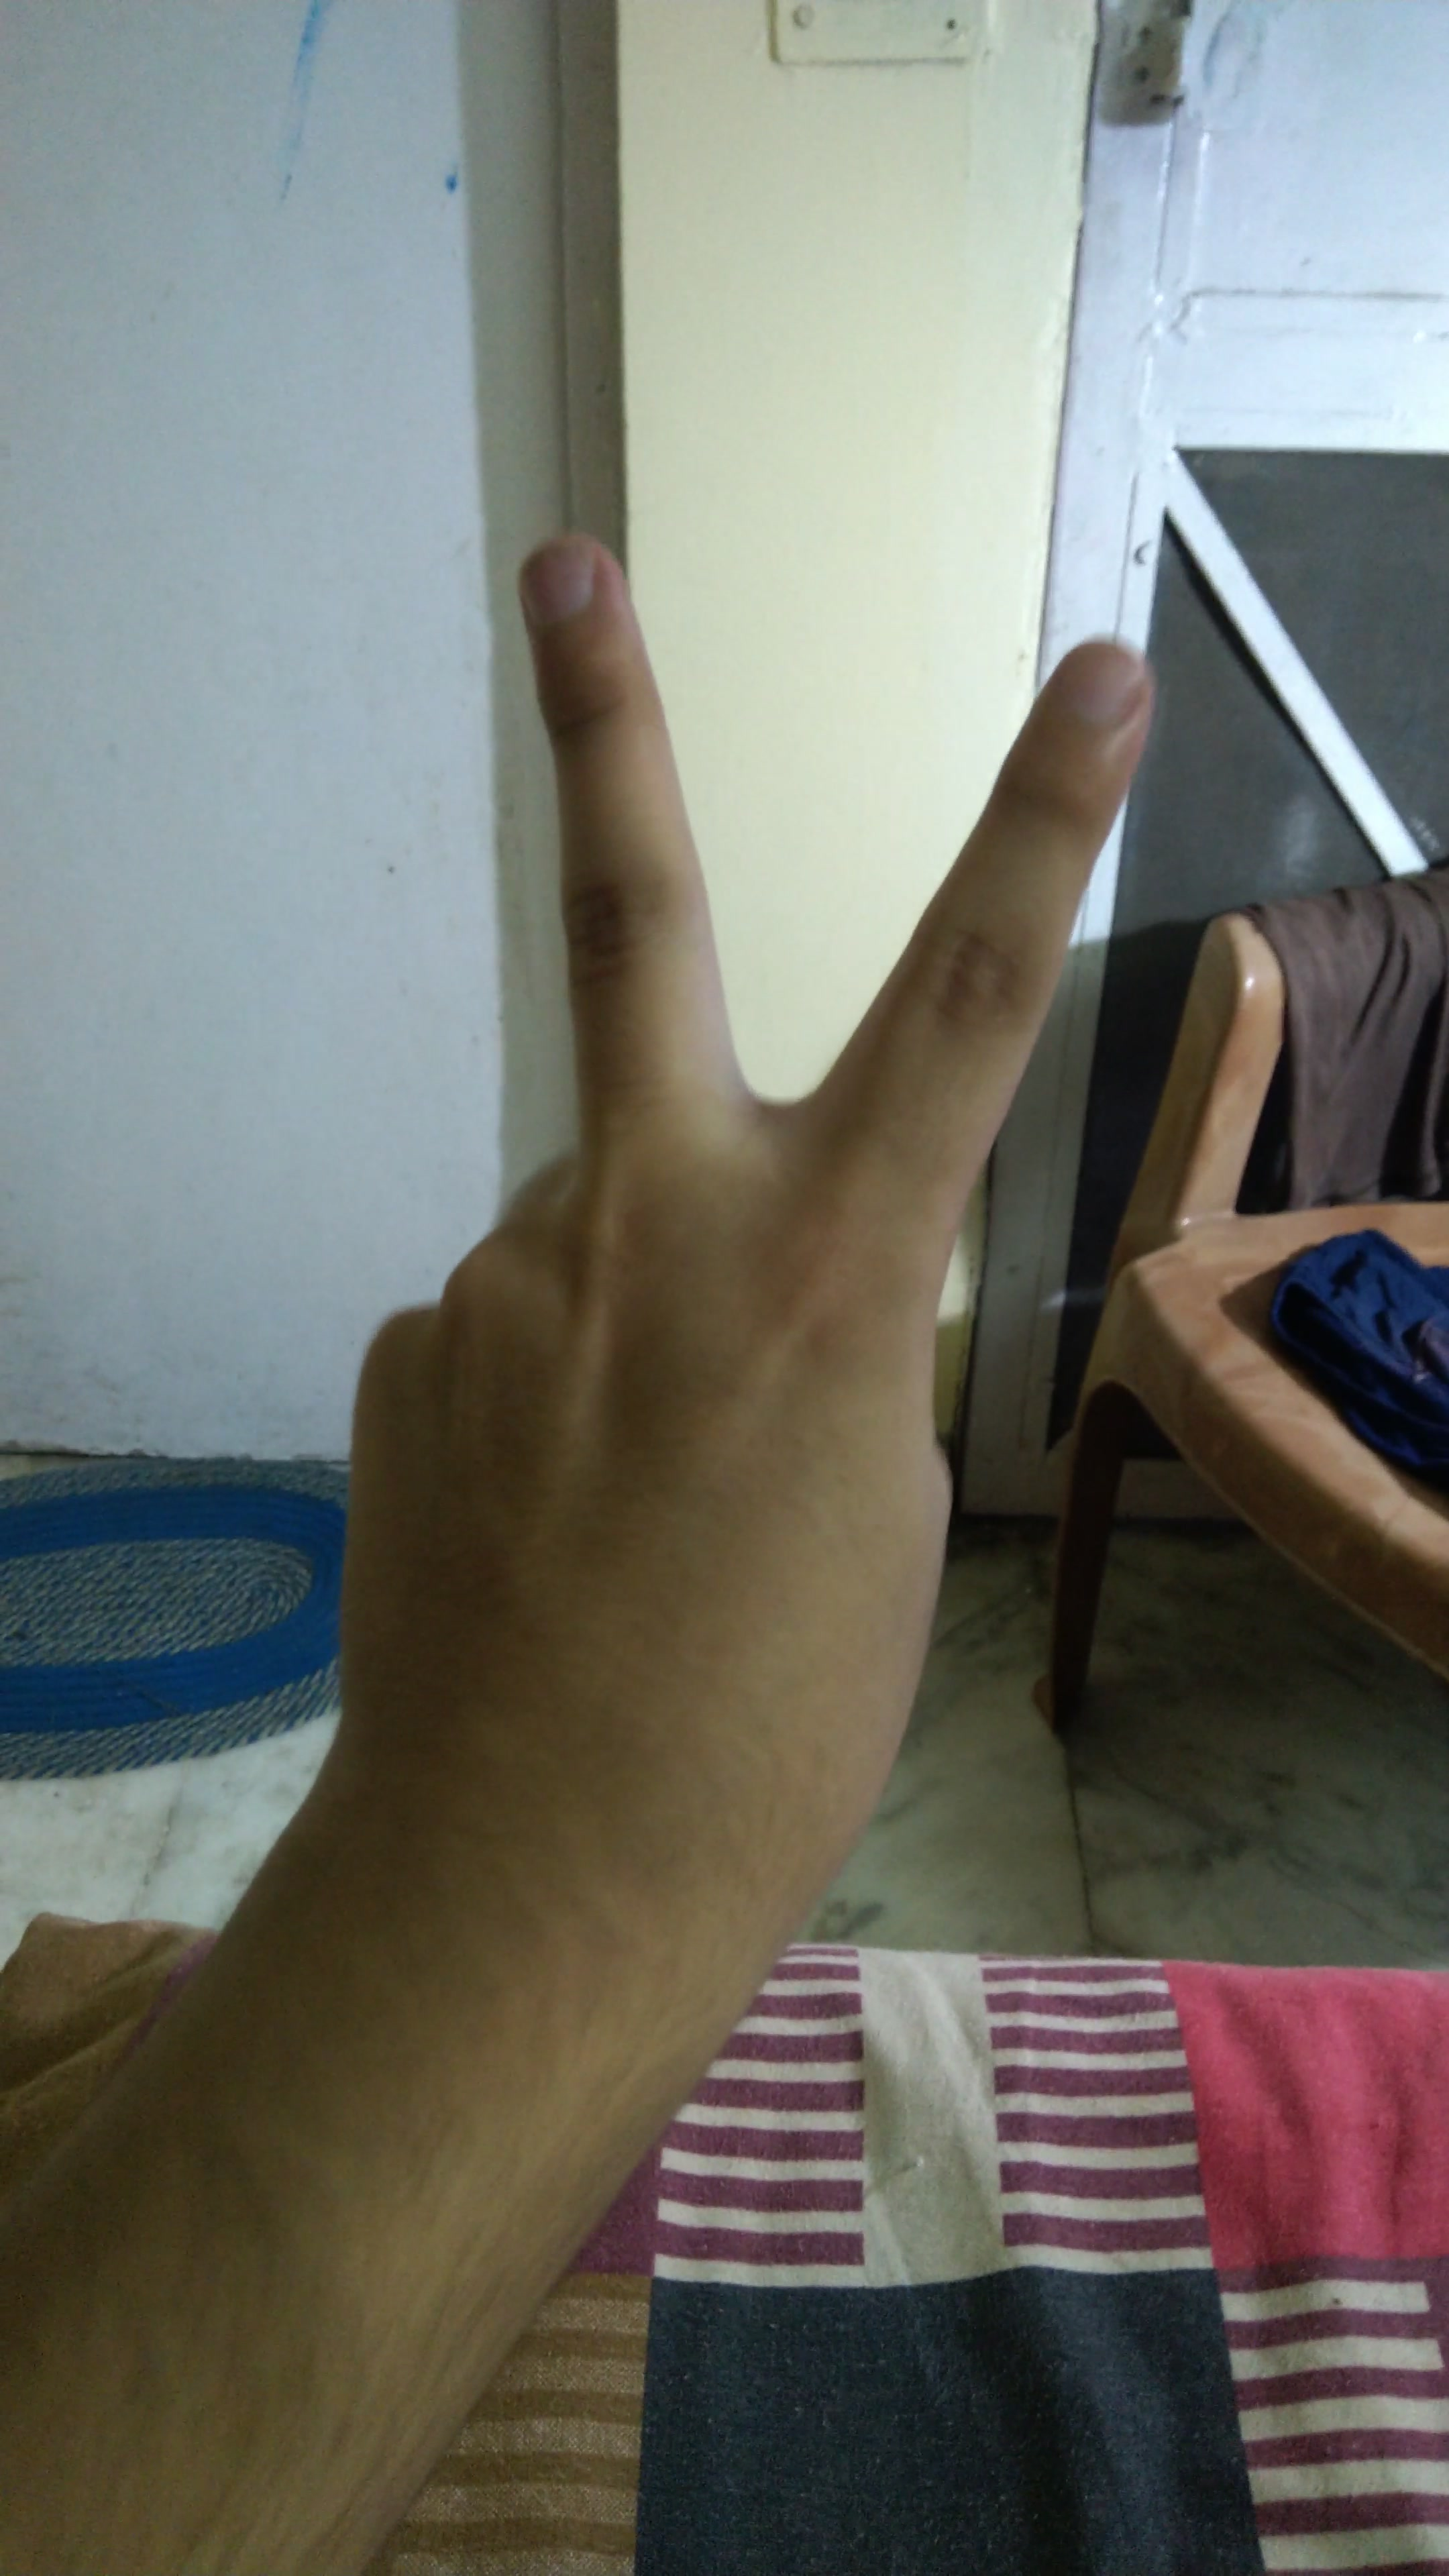hand: (195, 494, 1203, 1939)
